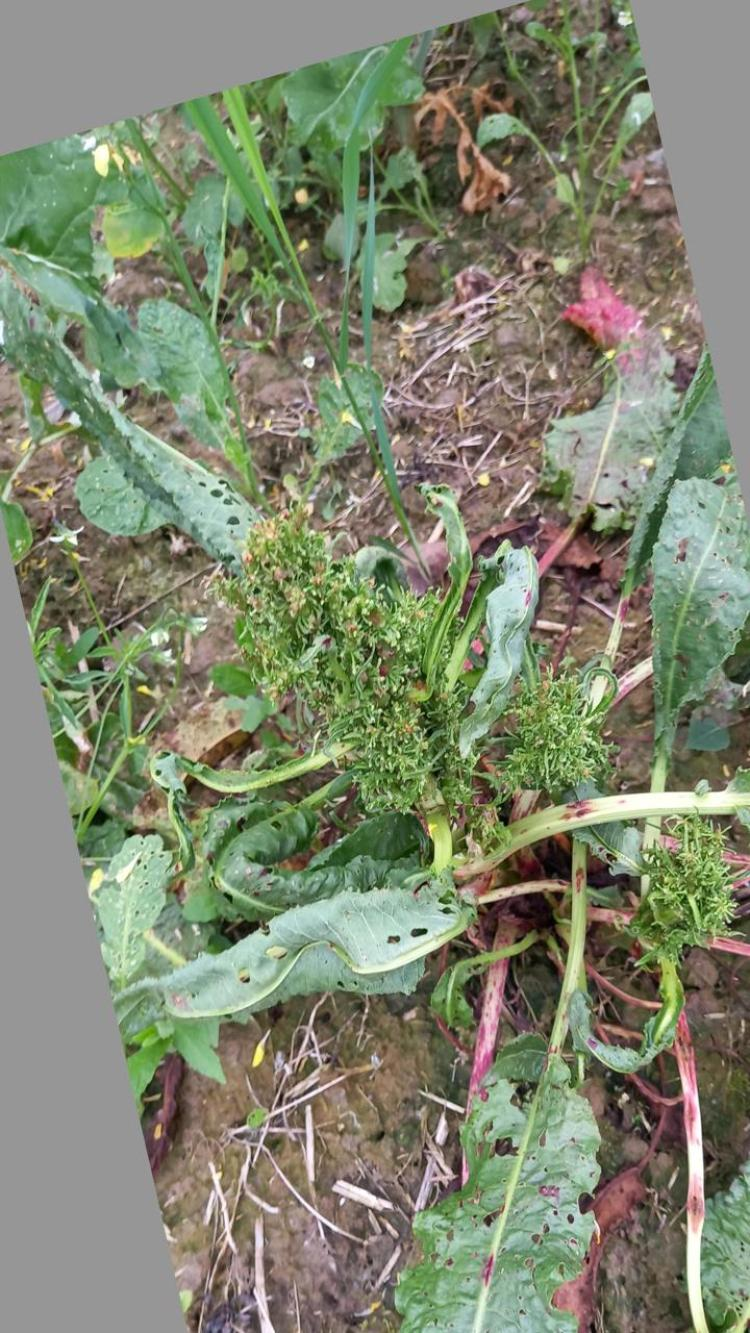zhavel: (75, 489, 750, 1333)
